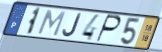1: (26, 6, 43, 37)
4: (79, 13, 101, 42)
5: (119, 17, 141, 47)
J: (61, 13, 83, 39)
M: (36, 9, 67, 38)
P: (94, 14, 123, 44)
